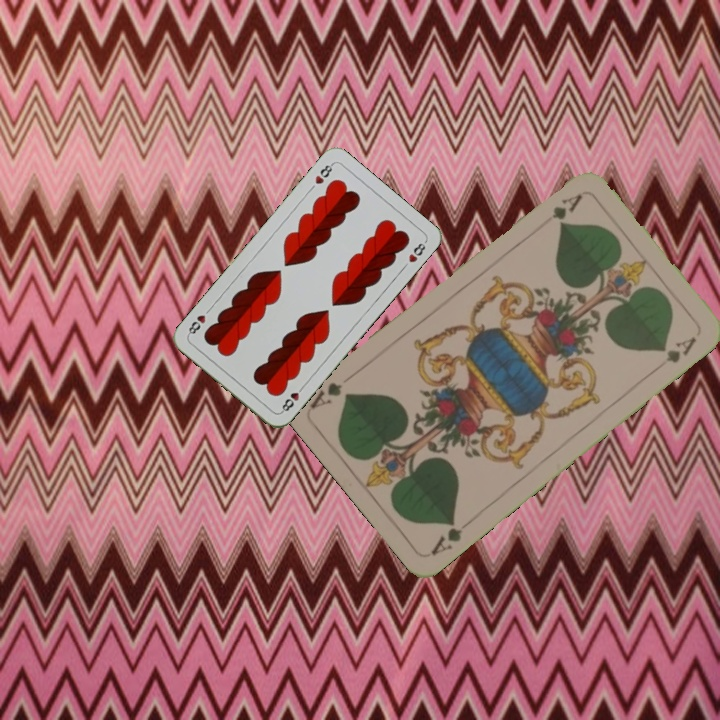GA: (535, 189, 586, 229), (426, 515, 466, 559)
H8: (277, 381, 307, 415), (311, 159, 336, 187)
